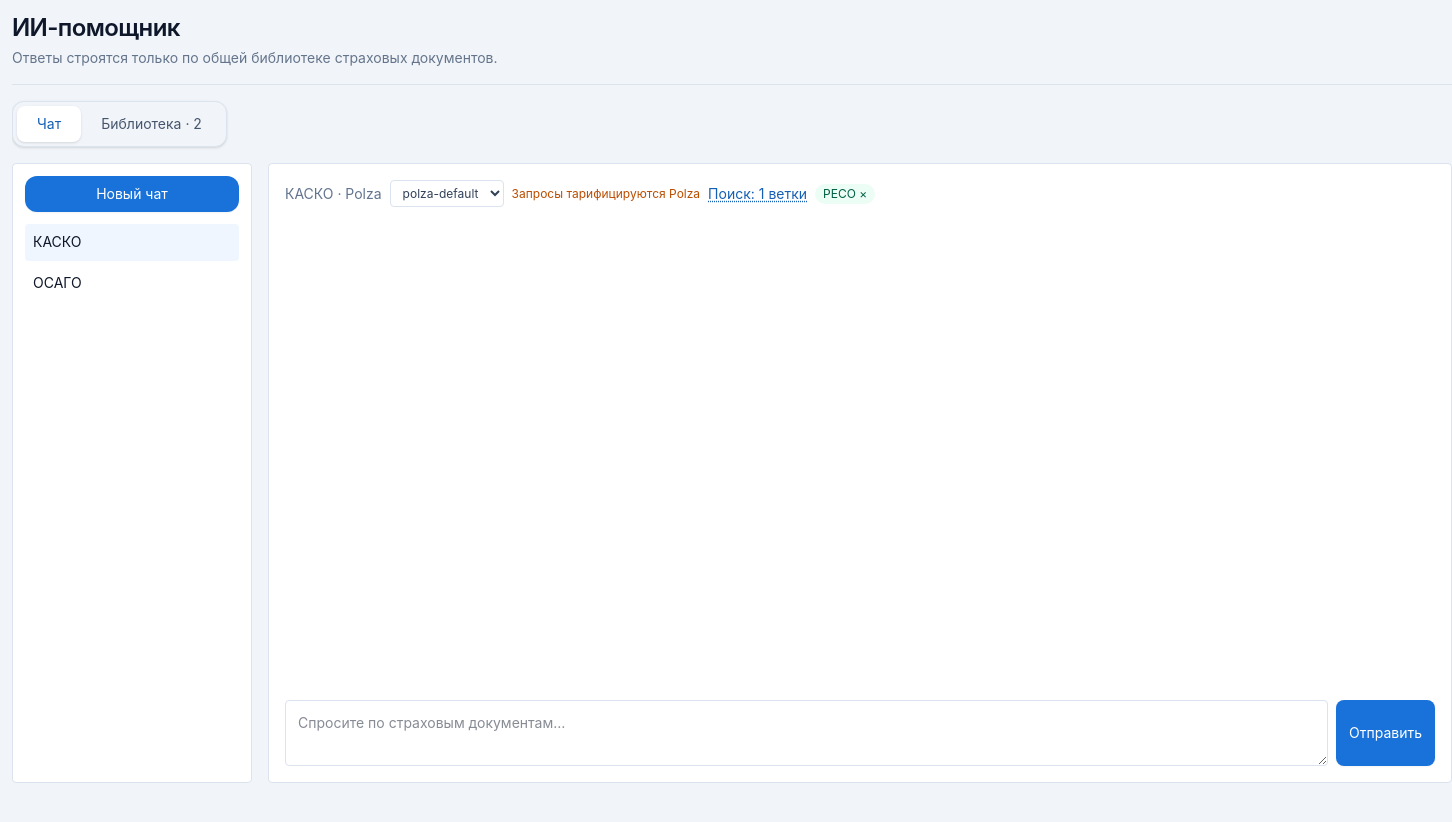
Scenario: AiAssistantView › uses the library tree to filter shared documents without changing chat scope
Click the button "Библиотека · 2": (152, 124) [81,106,222,142]
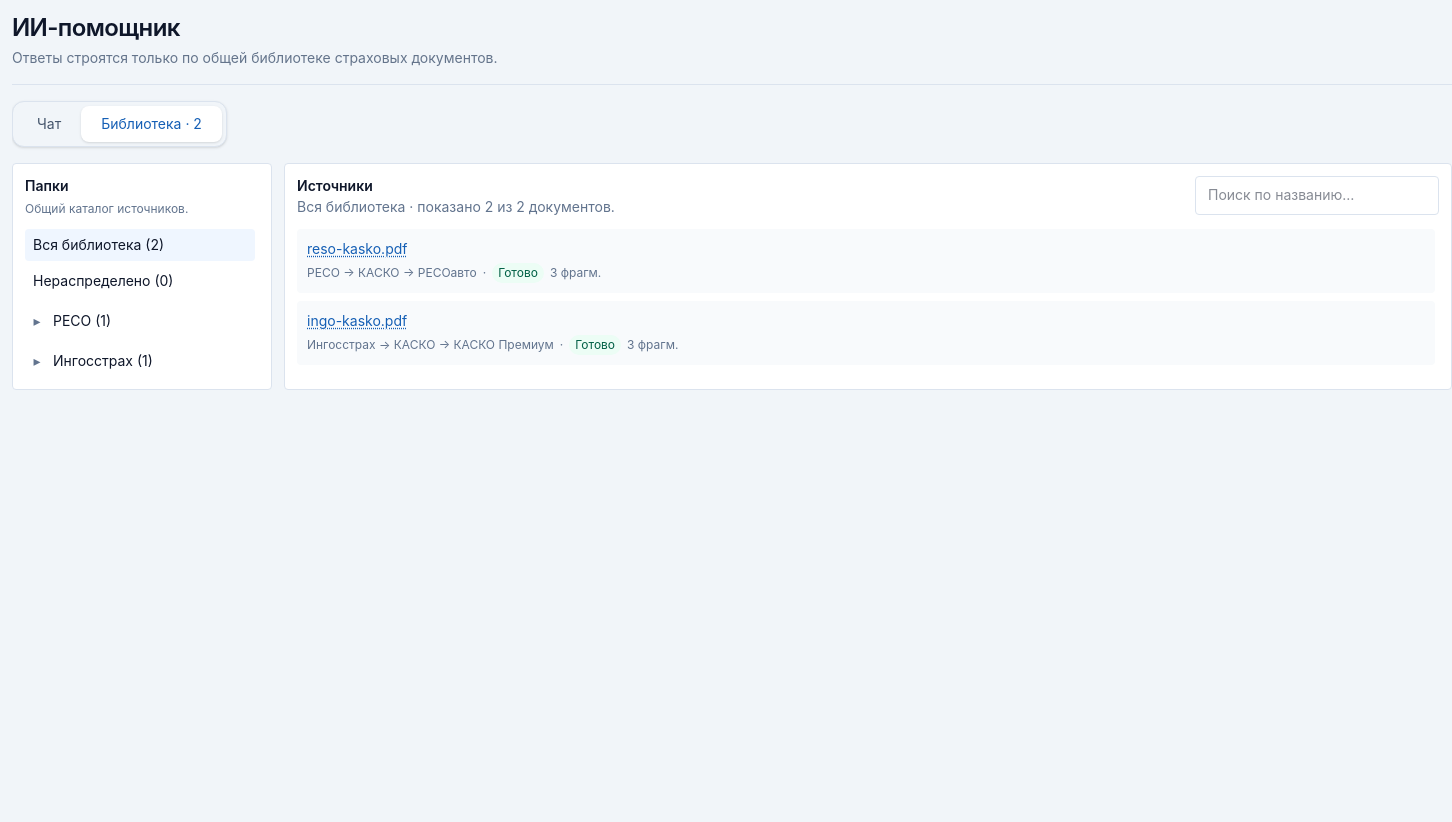
Click the button named "Развернуть РЕСО (1)": (37, 321) [25,311,49,331]
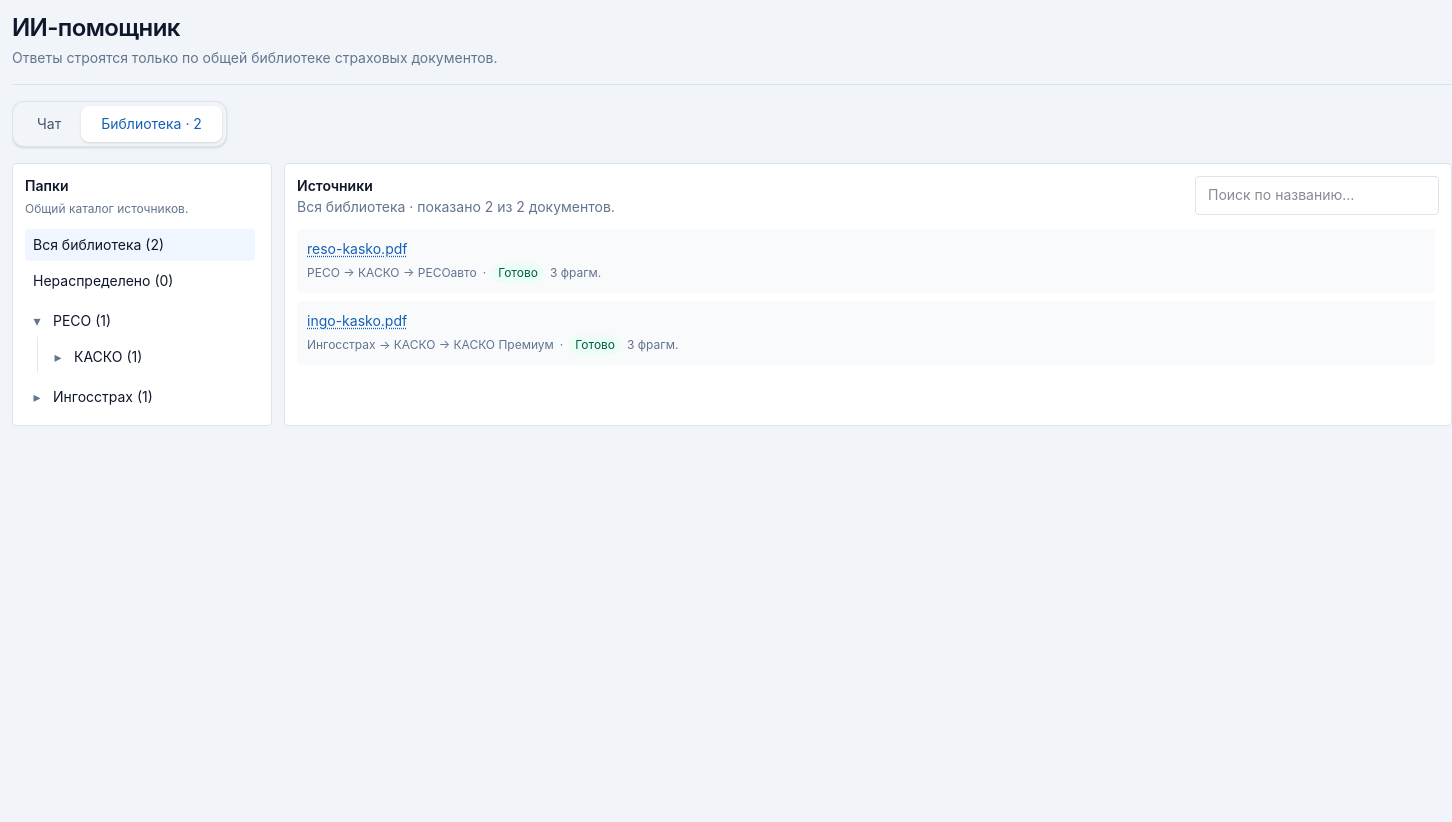
Click the button named "Развернуть КАСКО (1)": (58, 357) [46,347,70,367]
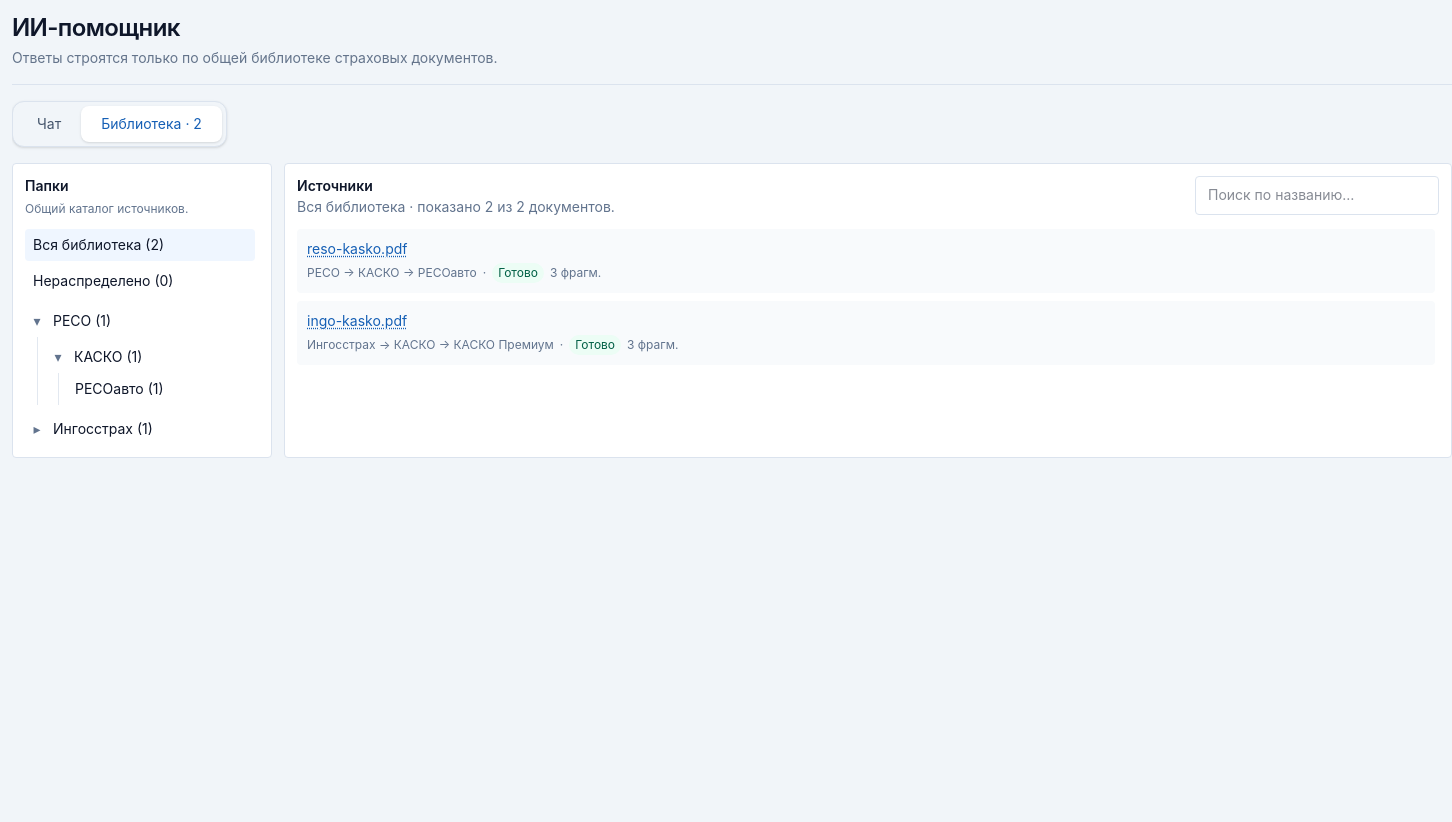
Click the button "РЕСОавто (1)": (161, 389) [67,373,255,405]
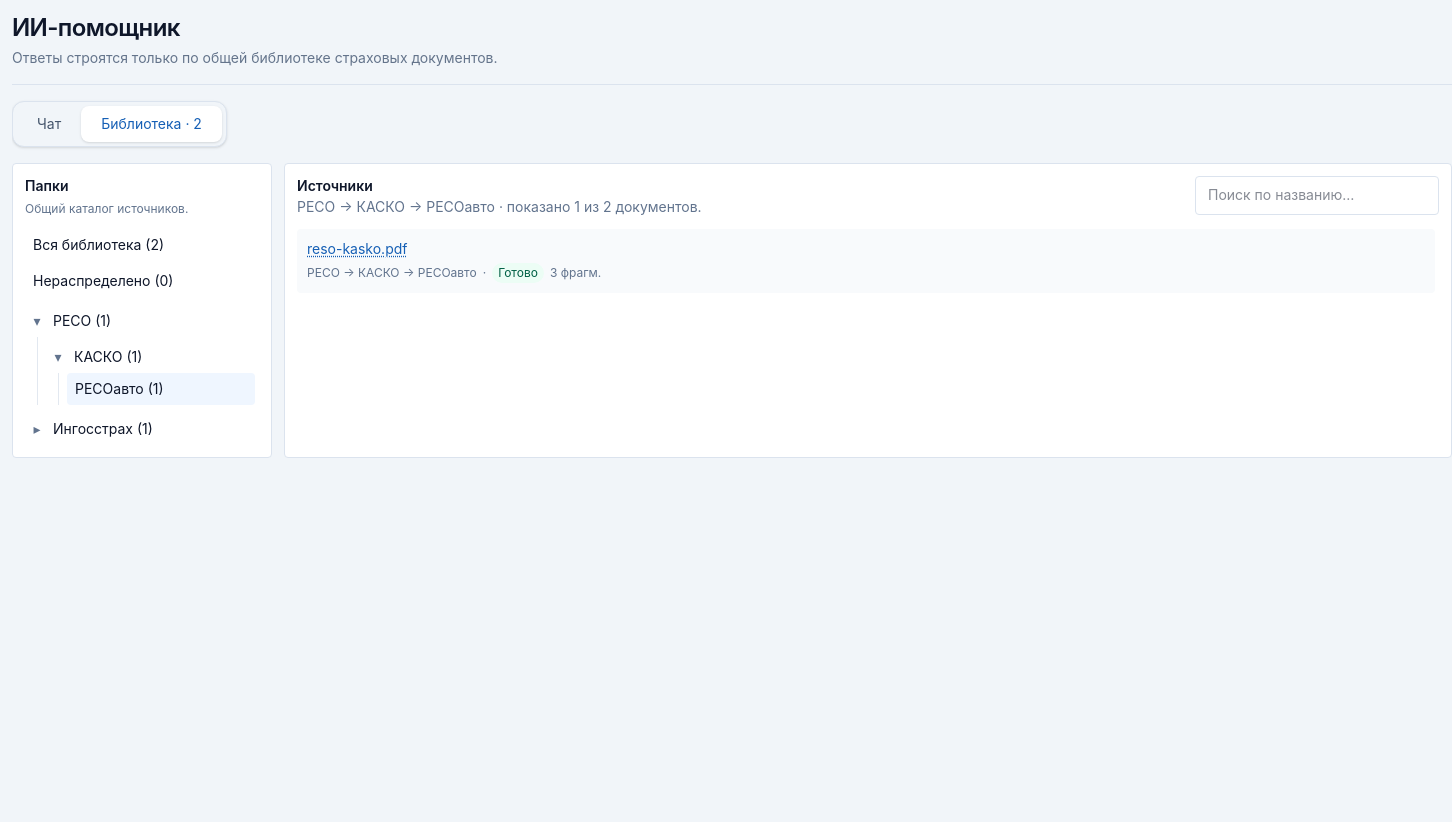
Check: the button "reso-kasko.pdf" is shown, box [307,239,408,259]
Check: the button "ingo-kasko.pdf" is gone
Check: the text "РЕСО → КАСКО → РЕСОавто · показано 1 из 2 документов." is shown, box [297,197,702,217]
